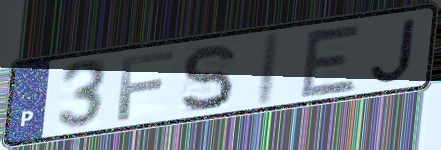3: (55, 57, 110, 133)
E: (298, 22, 365, 100)
F: (115, 48, 177, 123)
I: (252, 29, 284, 109)
J: (368, 16, 419, 85)
S: (178, 42, 237, 115)
